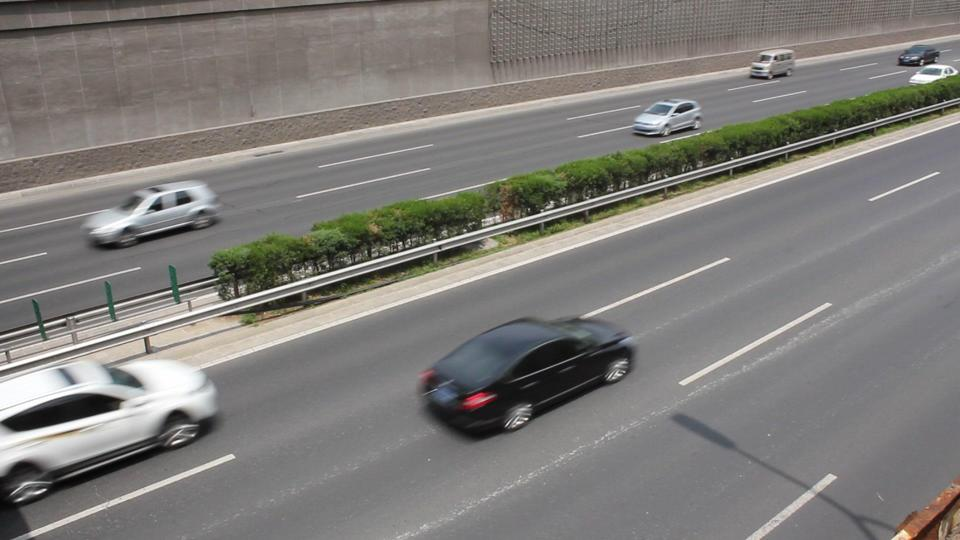car: (0, 352, 222, 518), (413, 317, 637, 440), (85, 181, 222, 248), (629, 97, 710, 137), (897, 49, 956, 77), (748, 49, 796, 79), (895, 42, 952, 66), (909, 65, 959, 84)
